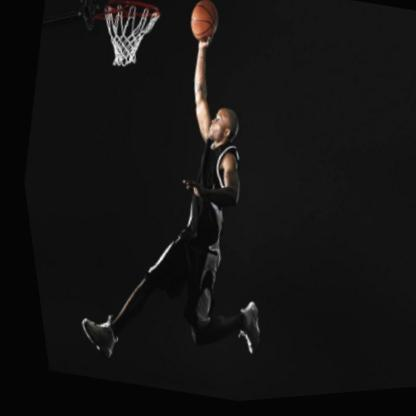basketball: (183, 0, 224, 48)
rim: (88, 0, 168, 78)
